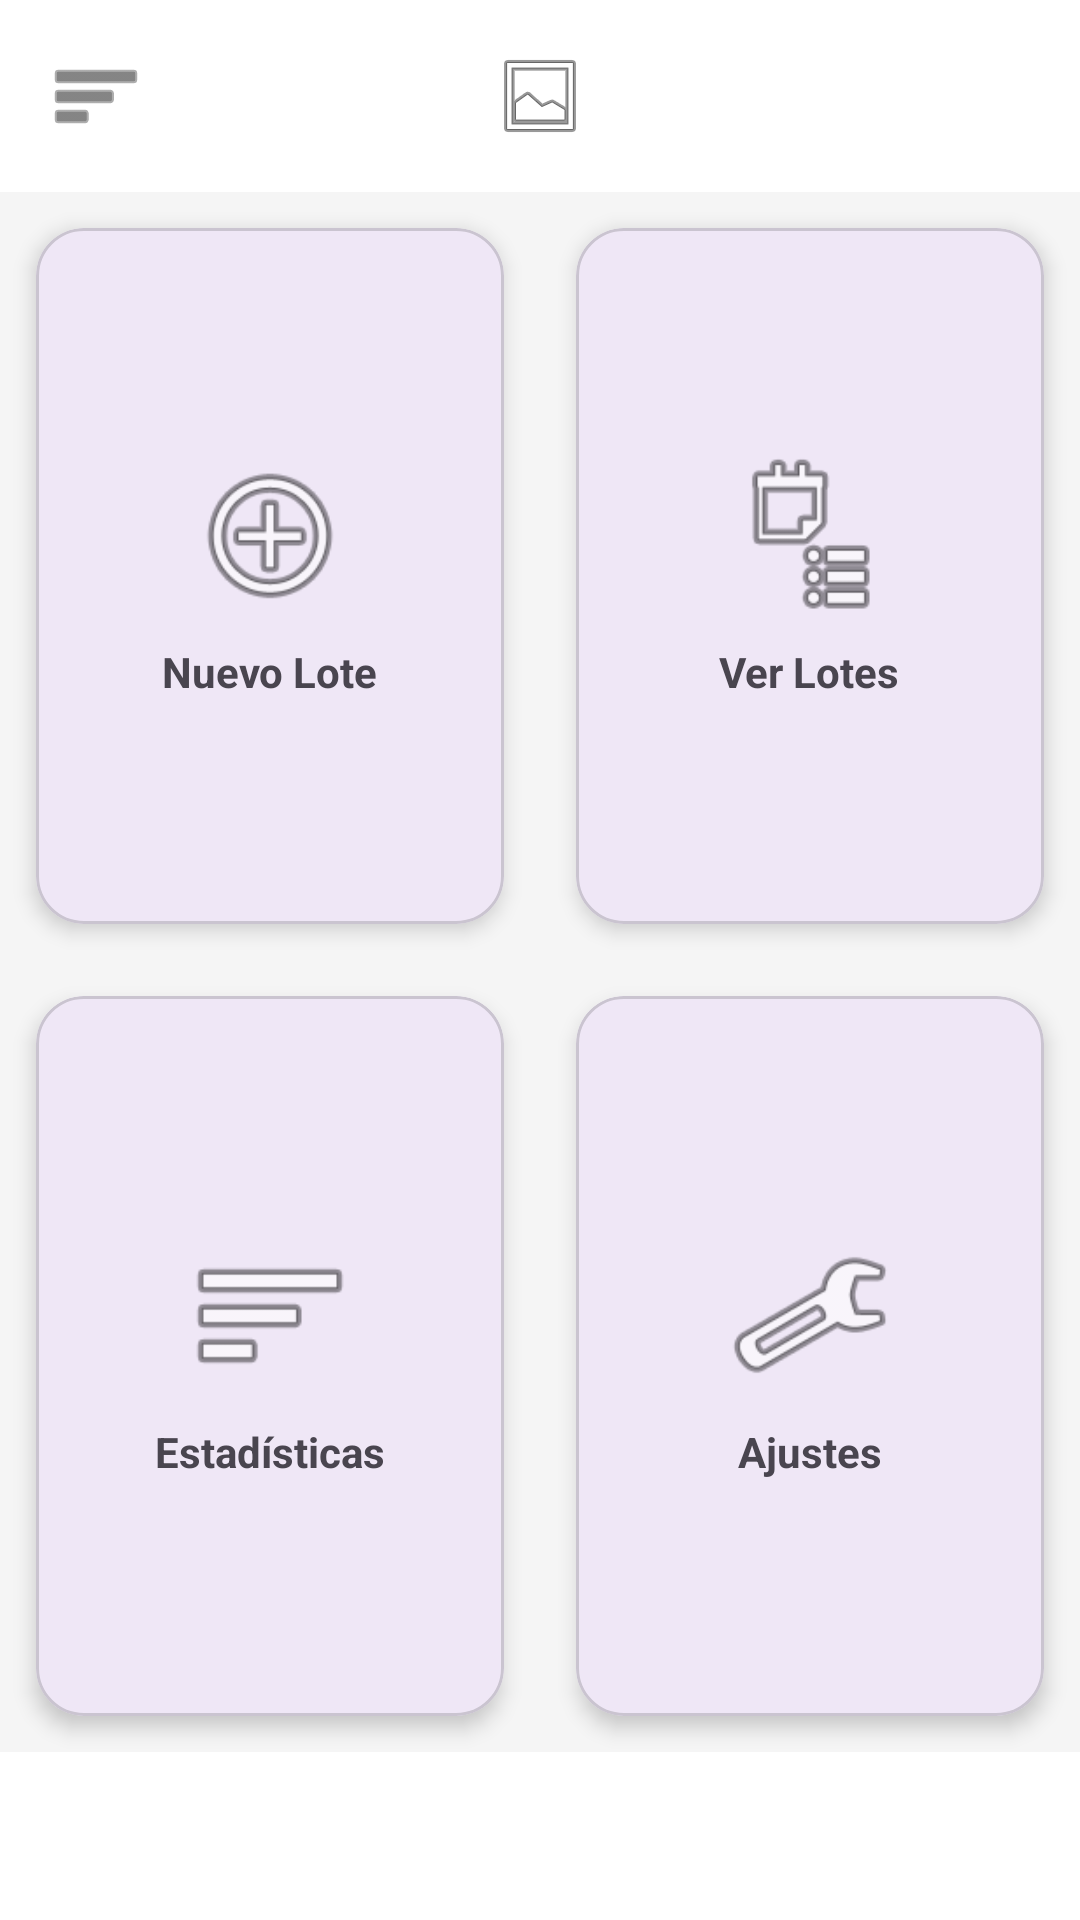

Named icons in this screenshot (1080x1920) and their centers, point (x, y):
add: point (270, 535)
agenda: point (811, 534)
gallery: point (540, 96)
sort by size: point (96, 96), point (270, 1316)
